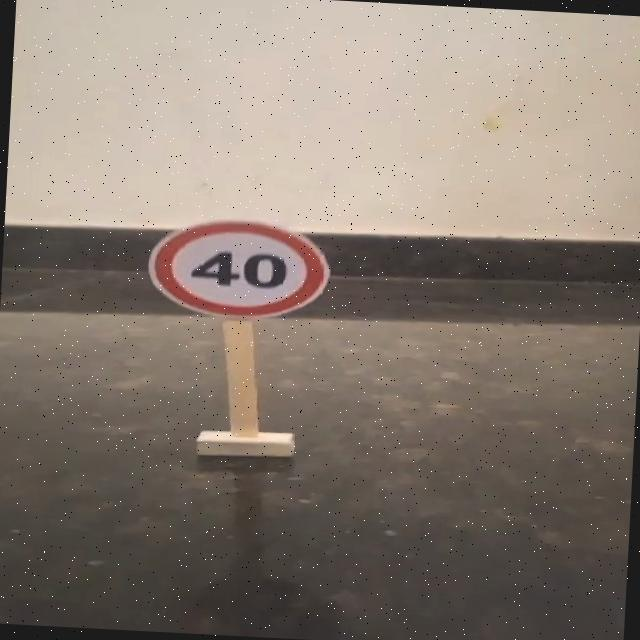Speed40: (140, 210, 338, 325)
